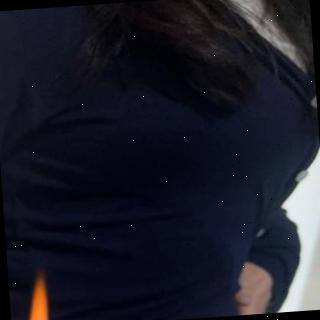fire: (21, 277, 51, 320)
